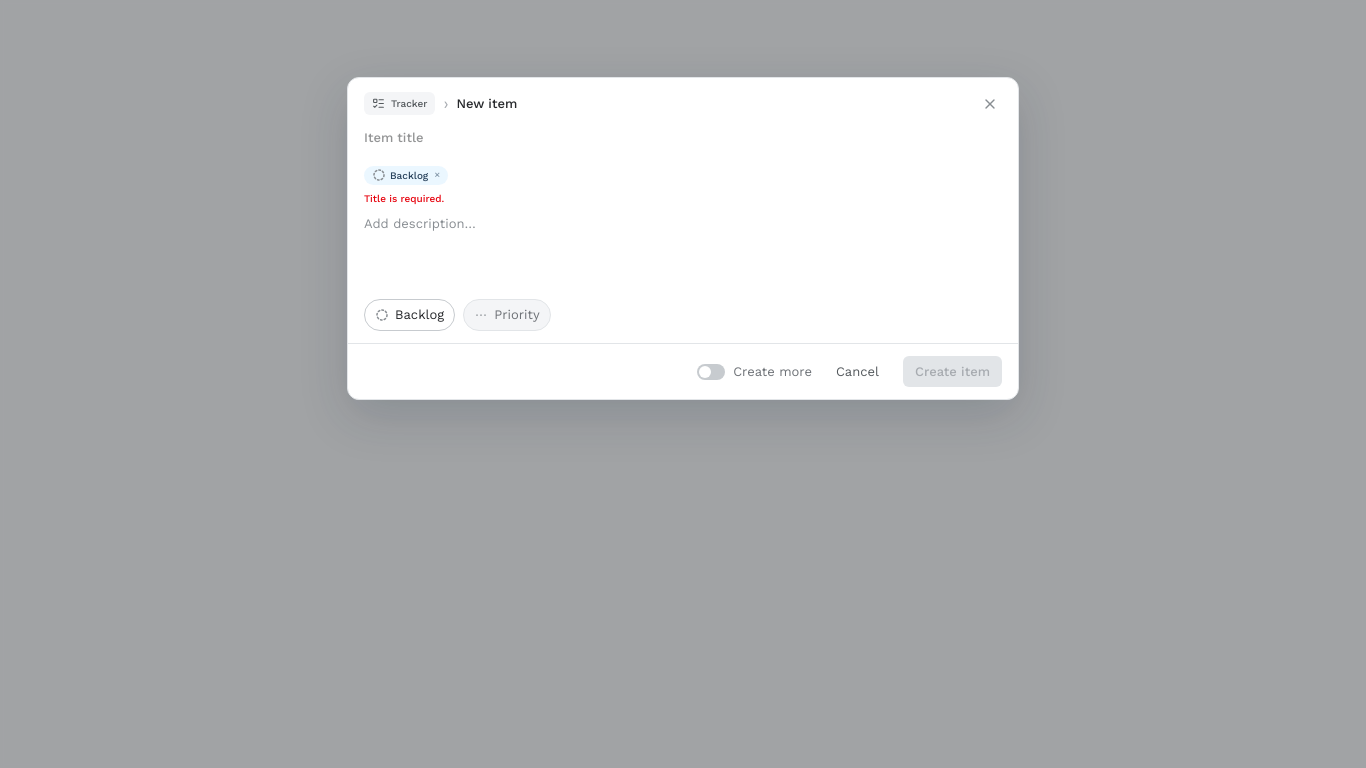
Test: TrackerCreateModal › picks a status from the popover and shows it on the chip
What coordinates should you click on to do the following:
click the 2nd button "Backlog"
I would click on:
 (410, 315)
Its box is [364, 299, 455, 331].
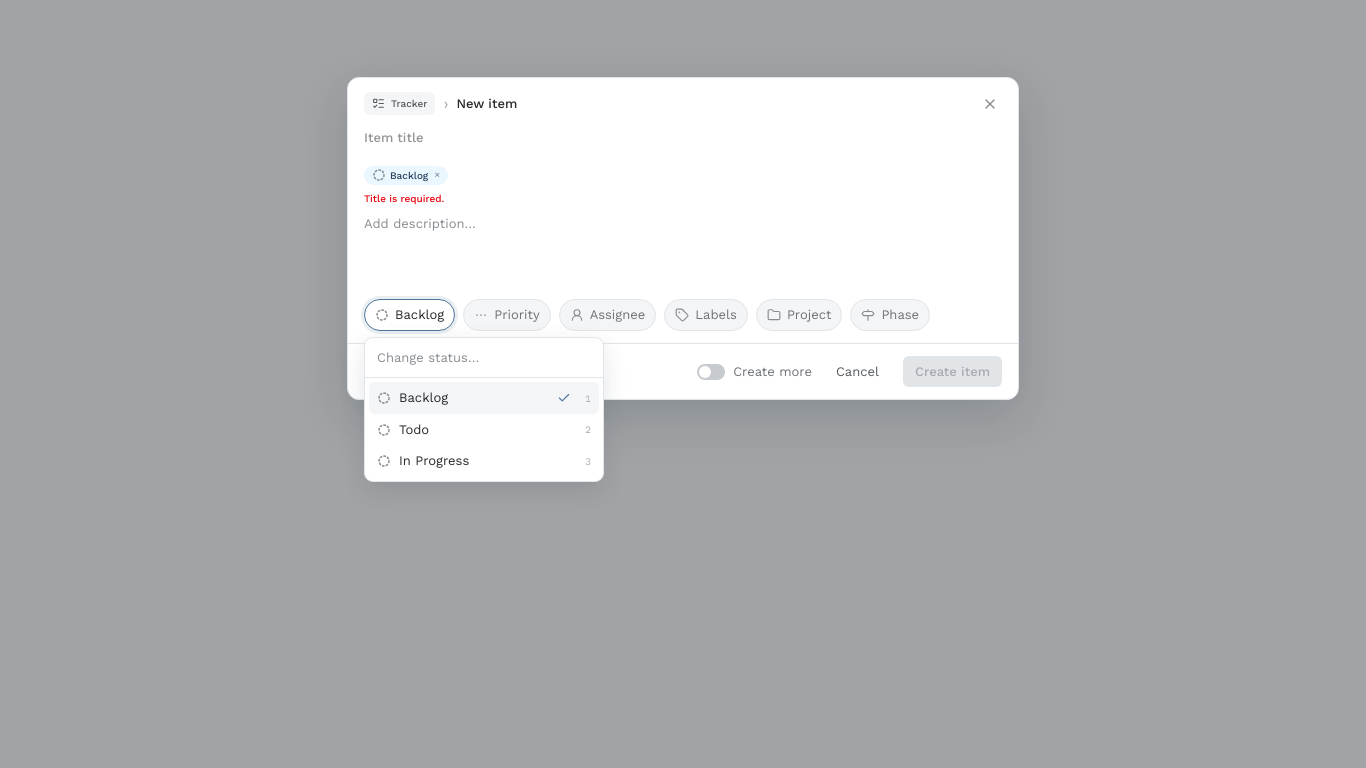
What coordinates should you click on to do the following:
click the option "In Progress 3"
I would click on:
 (484, 461)
Its box is [369, 445, 599, 477].
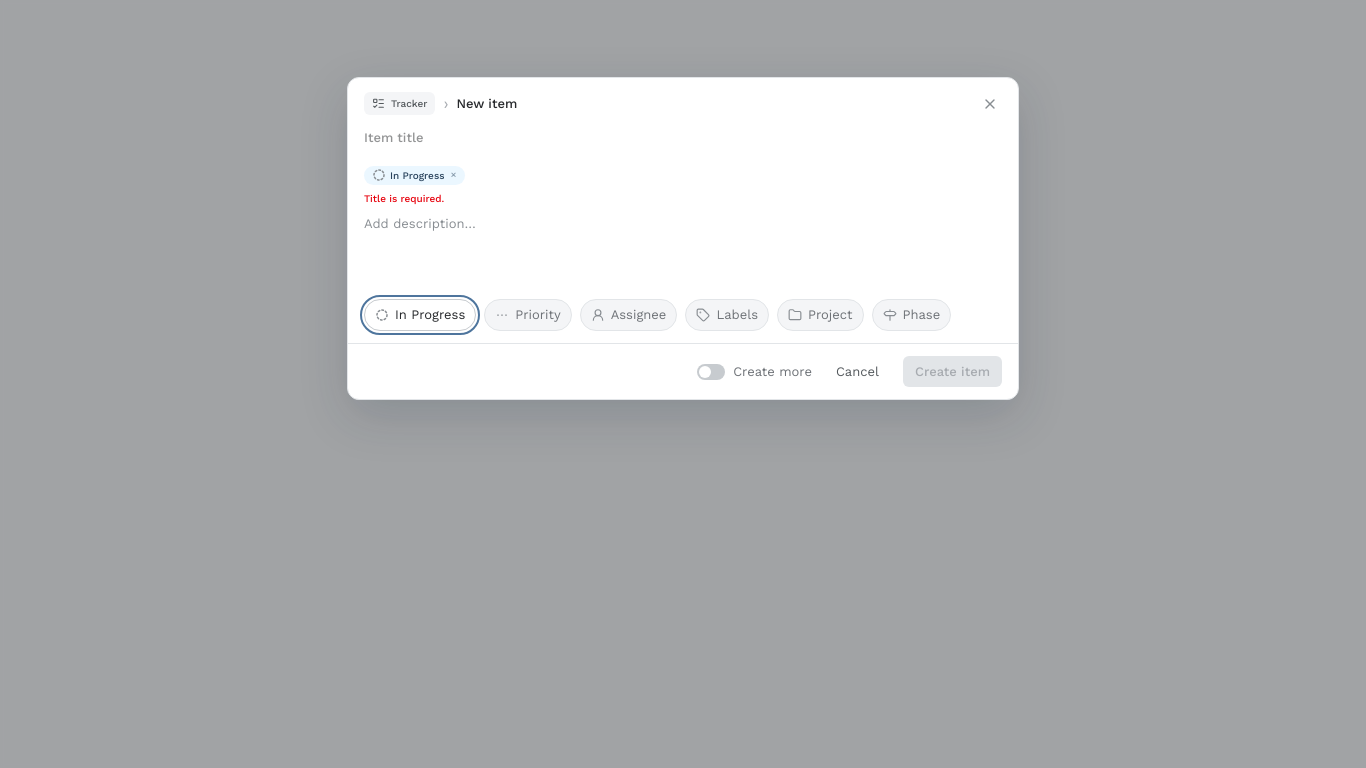
Expected: the list is gone
Expected: the 2nd button "In Progress" is shown, [364, 299, 476, 331]
